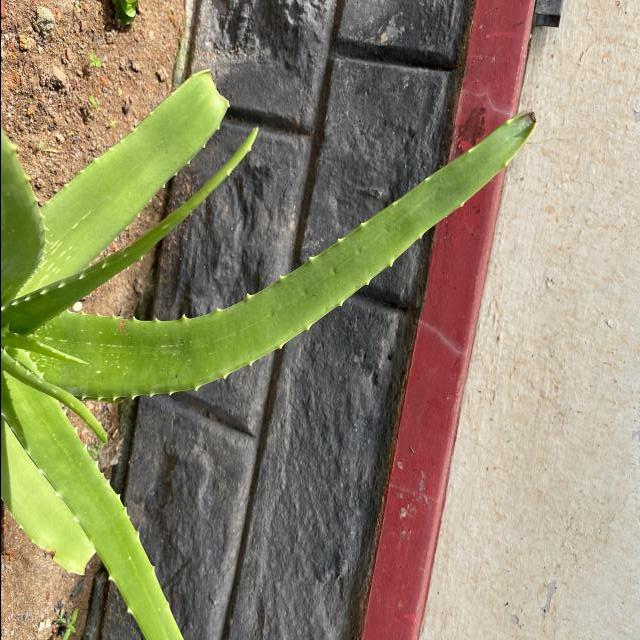Aloe vera: (38, 103, 538, 404)
